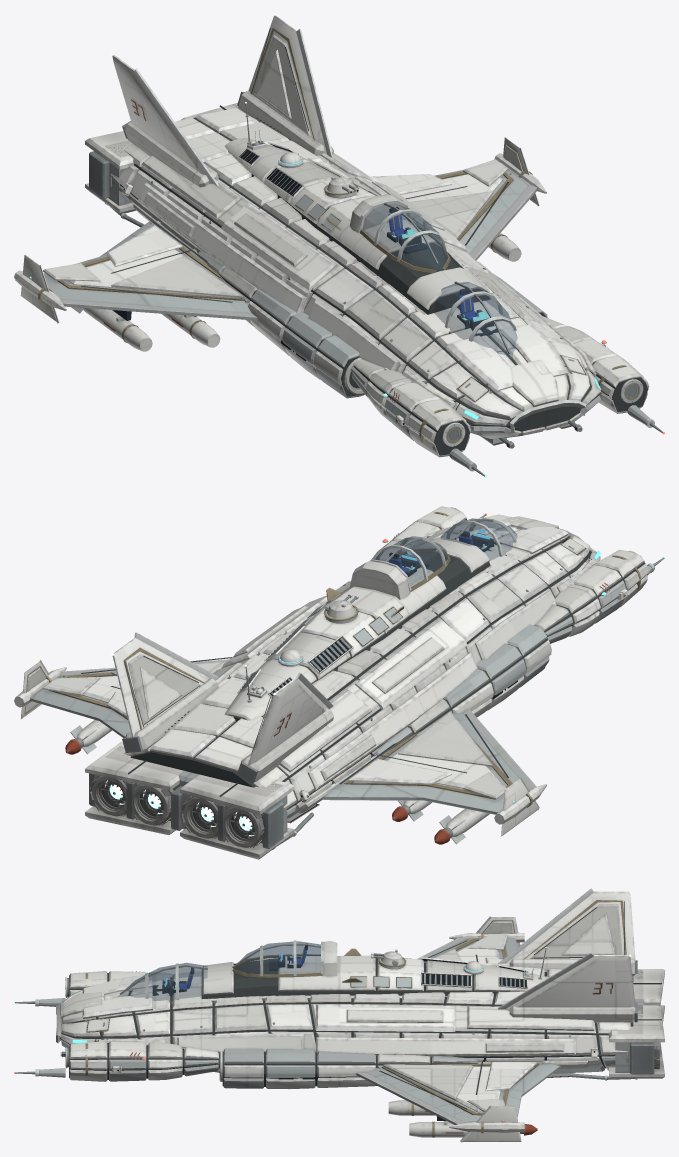
File: hammerhead_bomber.glb
3 renders of one model, top to bottom at view 1: azimuth 30°, elevation 25°; view 2: azimuth 150°, elevation 25°; view 3: azimuth 270°, elevation 25°, orthographic. The views are drawn at different scales.
Parts seen in each view (by area): view 1: hammerhead_bomber_hull, hammerhead_bomber_glass; view 2: hammerhead_bomber_hull, hammerhead_bomber_glass, hammerhead_bomber_plasma; view 3: hammerhead_bomber_hull, hammerhead_bomber_glass.
Part boxes in pixels (x1,y1,x2,y2): hammerhead_bomber_hull: [14, 14, 664, 477]; hammerhead_bomber_glass: [362, 203, 517, 360]; hammerhead_bomber_hull: [14, 506, 664, 859]; hammerhead_bomber_glass: [374, 518, 517, 586]; hammerhead_bomber_plasma: [105, 780, 254, 836]; hammerhead_bomber_hull: [14, 888, 664, 1142]; hammerhead_bomber_glass: [118, 941, 320, 1001].
Bounding box in the file's own units: 15.24 × 5.3 × 21.57.
3 materials, 1 textured.
